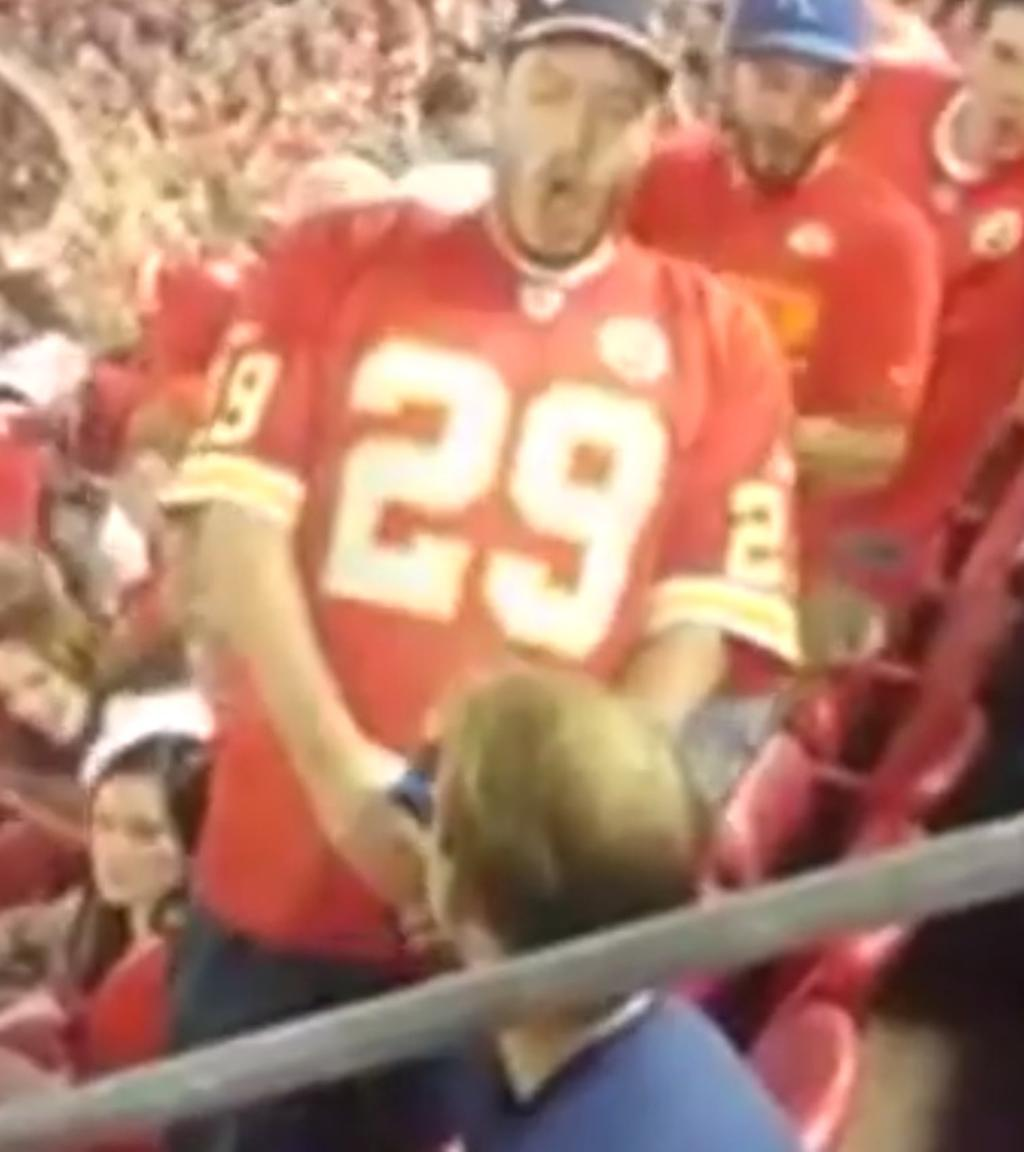face: (500, 41, 640, 259), (738, 27, 848, 173), (88, 772, 196, 912), (7, 639, 81, 756)
